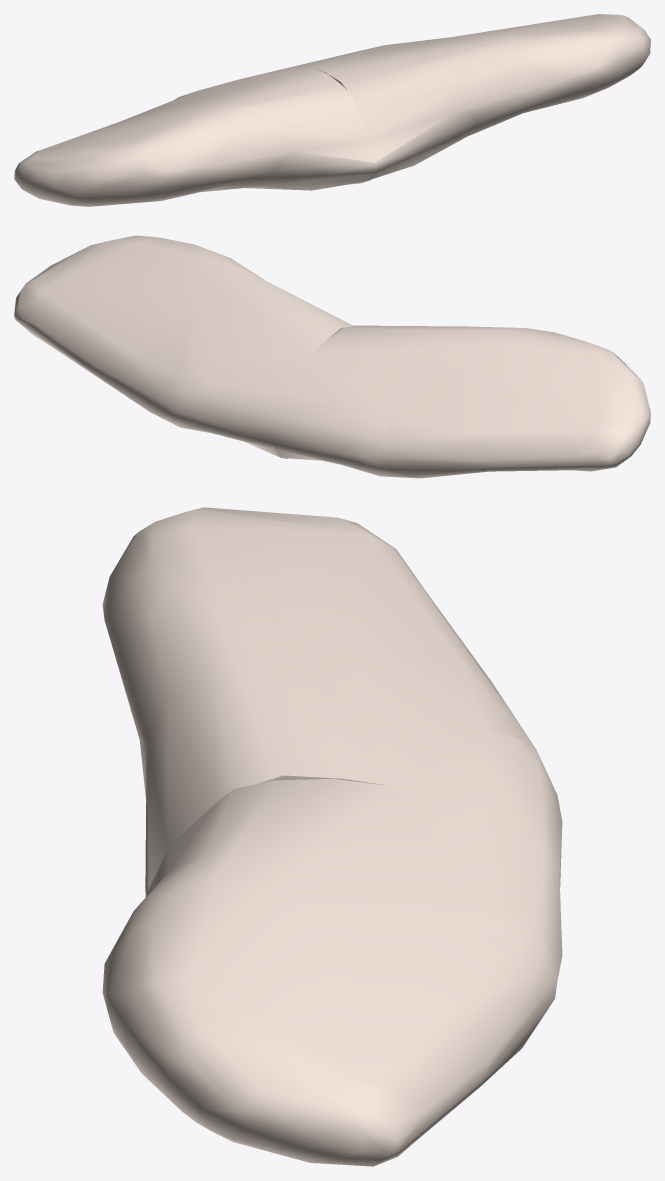
Rendered from nervoso-posterior-commissure.glb.
The picture shows the model from 3 angles, top to bottom: view 1: azimuth 30°, elevation 25°; view 2: azimuth 150°, elevation 25°; view 3: azimuth 270°, elevation 25°; orthographic projection. The views are drawn at different scales.
Parts seen in each view (by area): view 1: Posterior commissure; view 2: Posterior commissure; view 3: Posterior commissure.
Boxes of the visible parts, x1,y1,x2,y2 form: Posterior commissure: (14,14,650,206); Posterior commissure: (14,235,650,478); Posterior commissure: (102,507,562,1166).
Bounding box in the file's own units: 0.0151 × 0.00265 × 0.00489.
